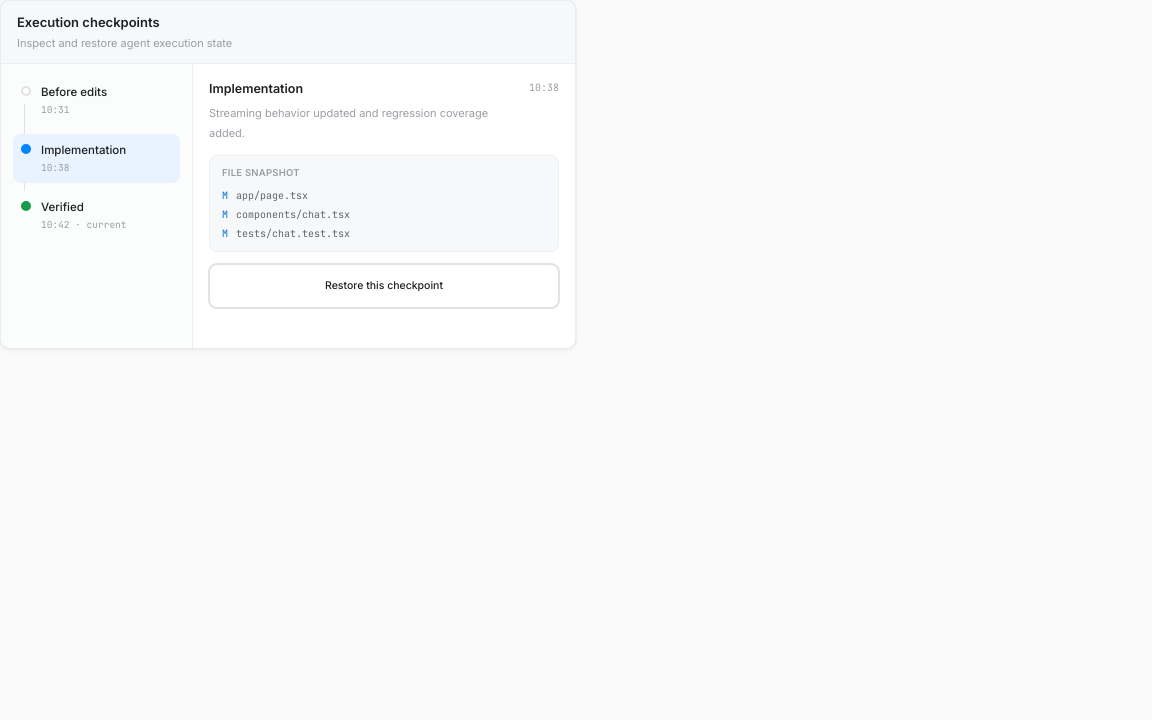
Test case: CheckpointTimeline › restores the selection and disables restoring it again
Step 1. Click the button with aria-label "Select checkpoint Before edits" → (96, 101), box [13,76,180,126]
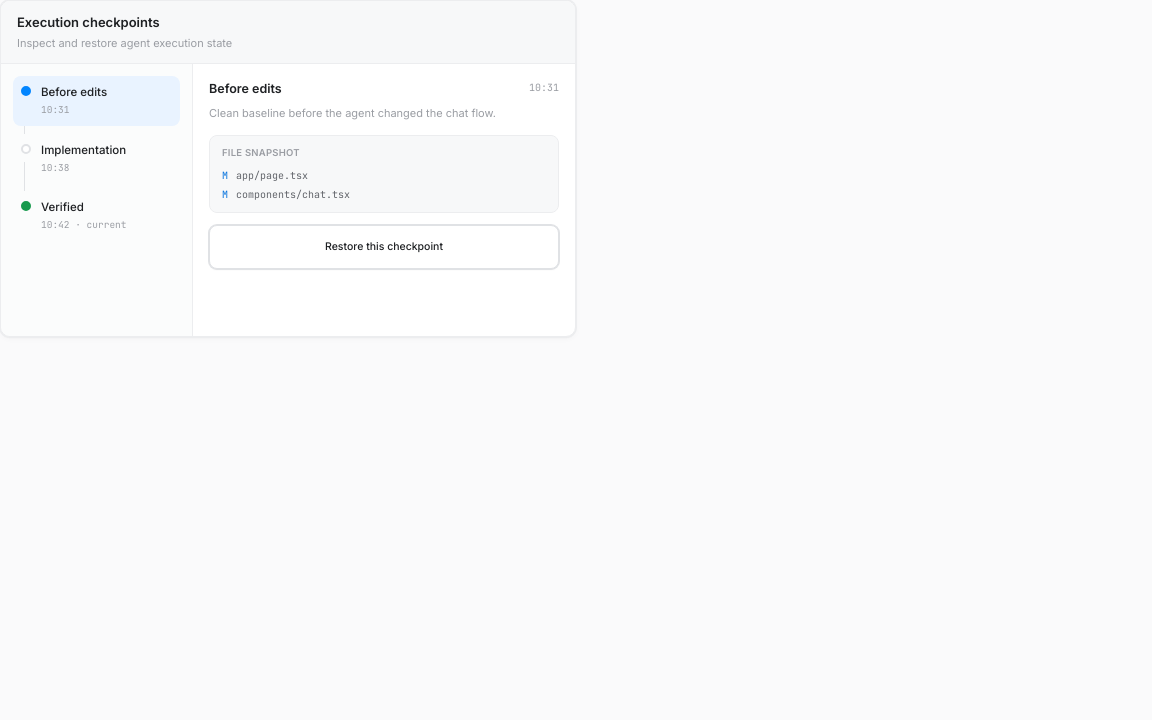
Step 2. Click the button with aria-label "Restore checkpoint" → (384, 247), box [209,225,559,269]
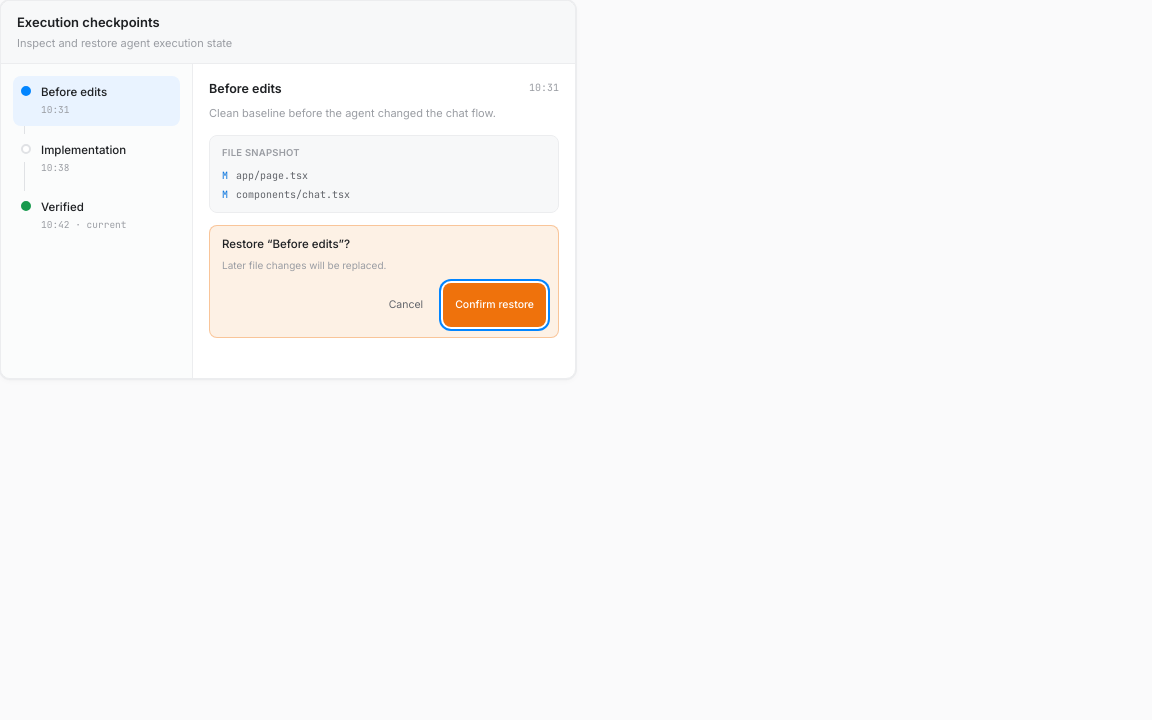
Step 3. Click the button "Confirm restore" → (495, 305), box [443,283,546,327]
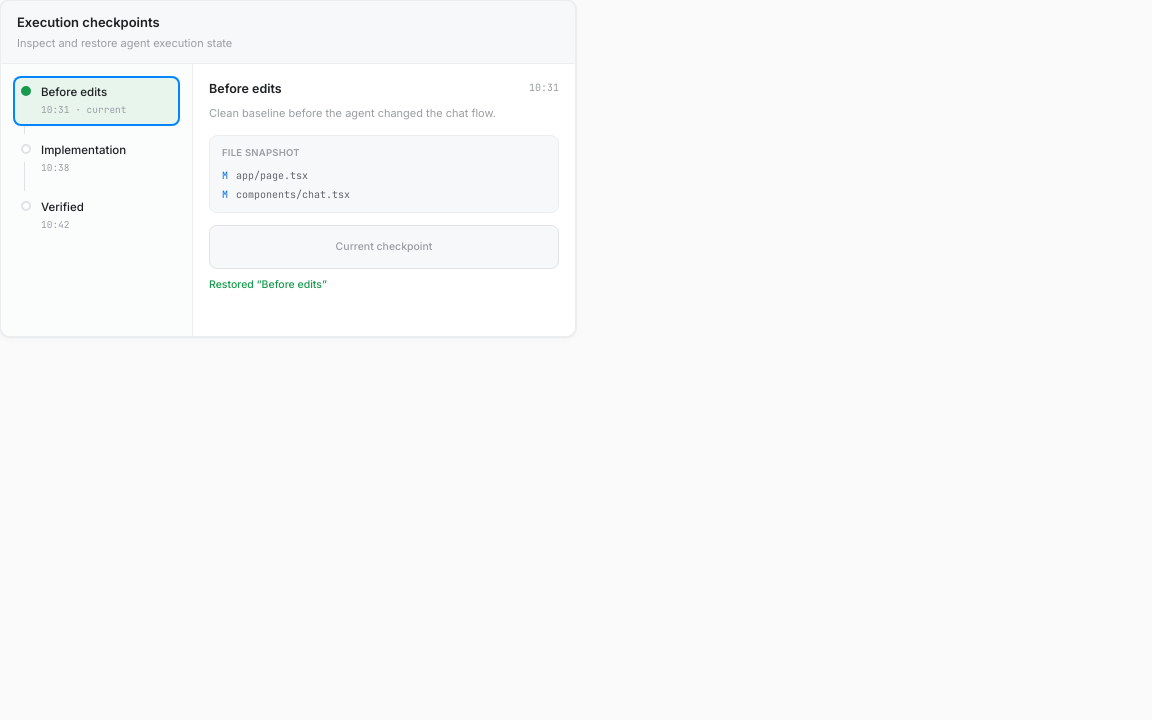
Expected: the text "Restored “Before edits”" is shown, [209,278,327,291]
Expected: the button "Current checkpoint" is disabled, [209,225,559,269]
